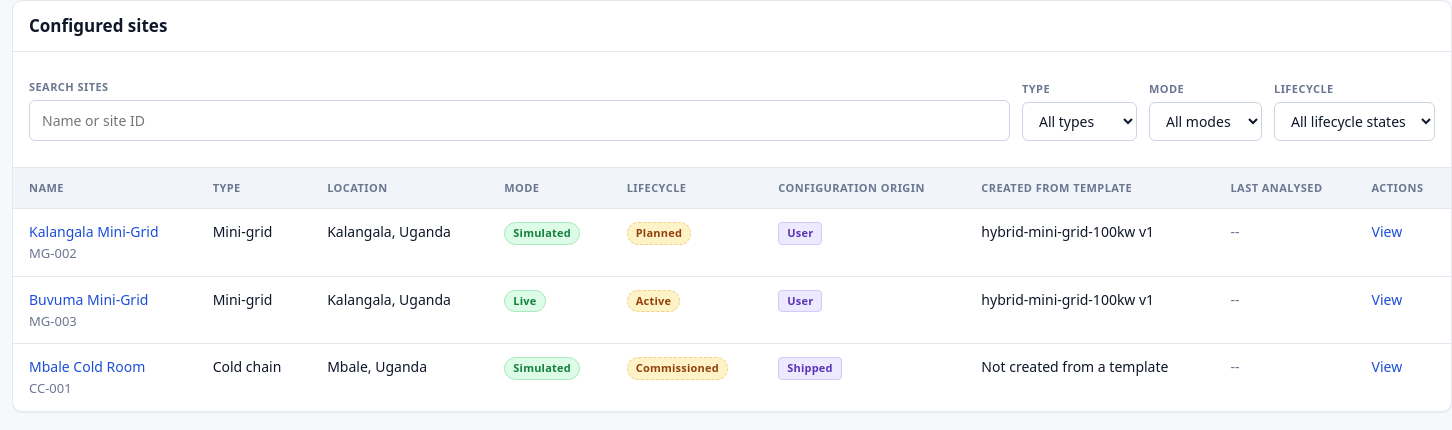
Test case: the index filters over the sites it actually has › says an empty result is about the filters, never about the store
Check: the table is shown, box [13,168,1451,411]
Type "no-such-site" into the search field labelled "Search sites".
click(520, 120); type("no-such-site")  # box [29,100,1010,141]
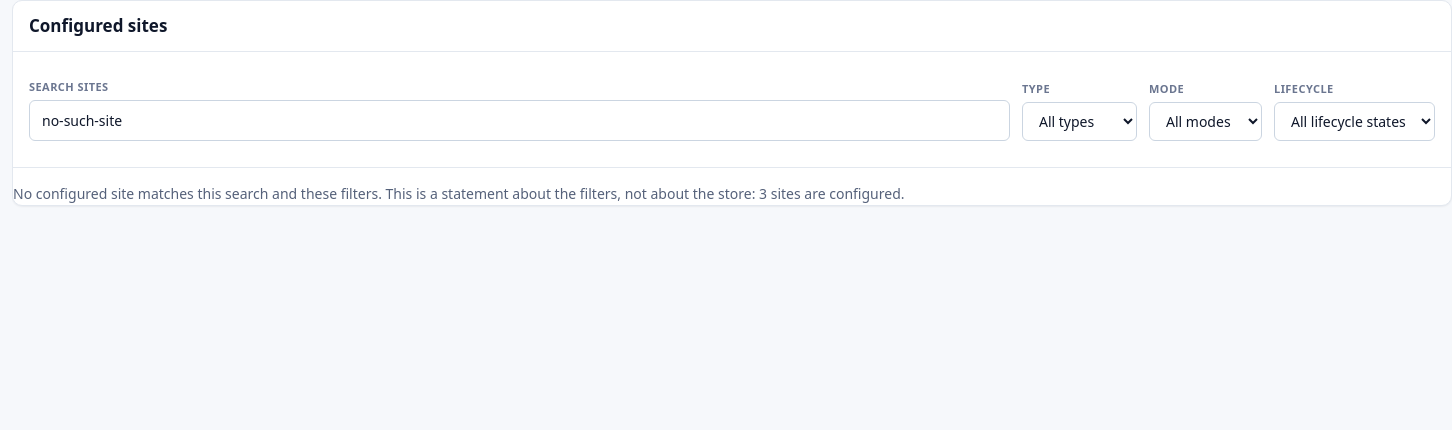
Check: the table is gone
Check: the text "statement about the filters" is shown, box [13,184,755,203]
Check: the text "3 sites are configured" is shown, box [759,184,901,203]
